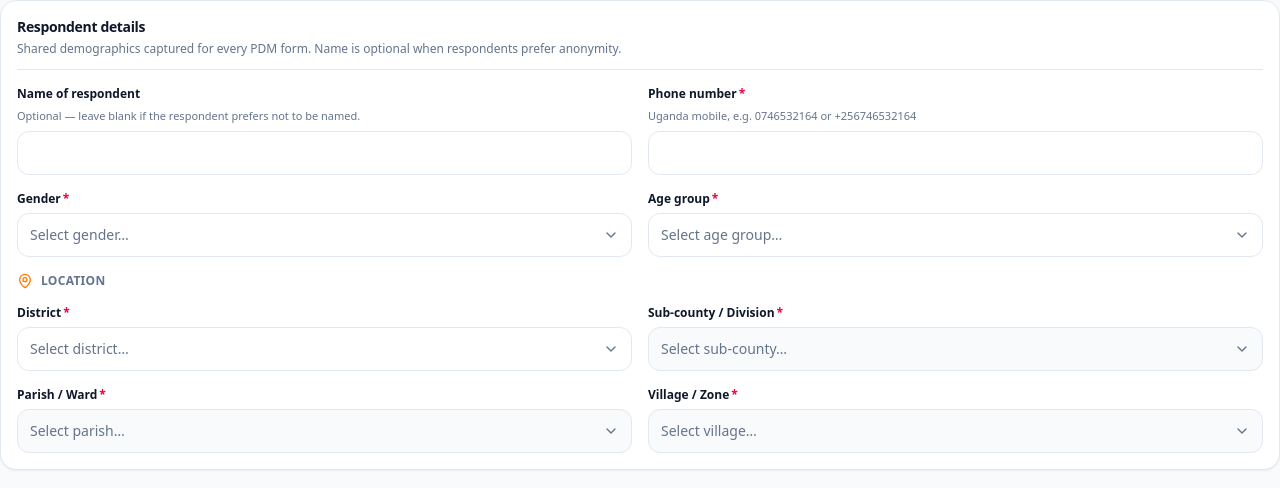
RespondentSection › renders programme target age brackets
Click the dropdown labelled "Select age group…": (722, 234) [648, 212, 1263, 256]
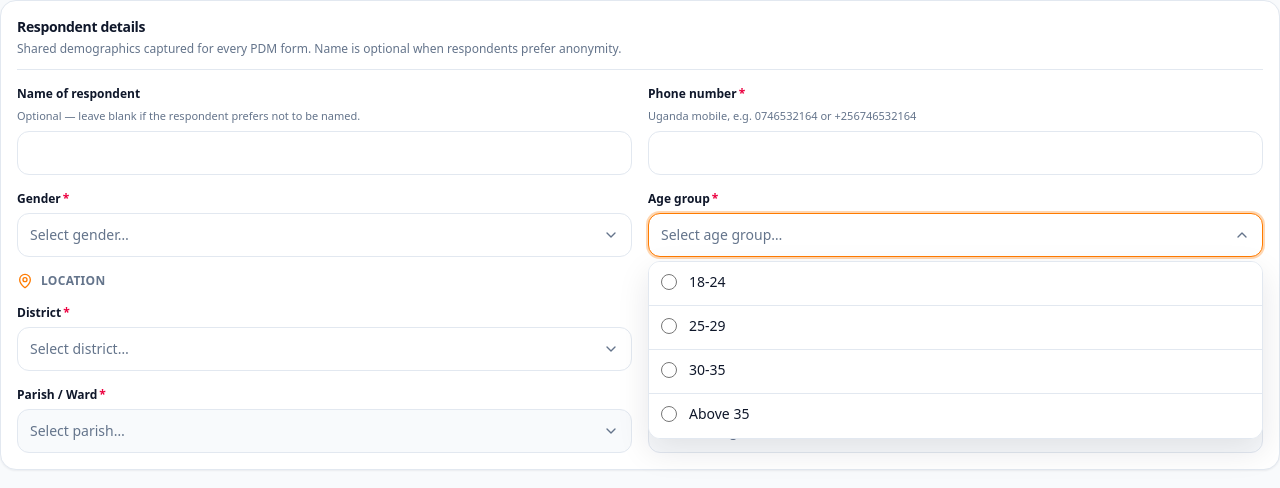
Result: the radio button labelled "18-24" is shown at [661, 274, 677, 290]
Result: the radio button labelled "25-29" is shown at [661, 318, 677, 334]
Result: the radio button labelled "30-35" is shown at [661, 362, 677, 378]
